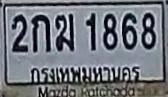1: (85, 12, 95, 50)
2: (11, 14, 27, 51)
6: (121, 12, 137, 49)
8: (102, 13, 117, 49), (142, 12, 156, 49)
A01: (31, 15, 50, 52)
A06: (54, 14, 74, 50)
BKK: (29, 62, 142, 85)
